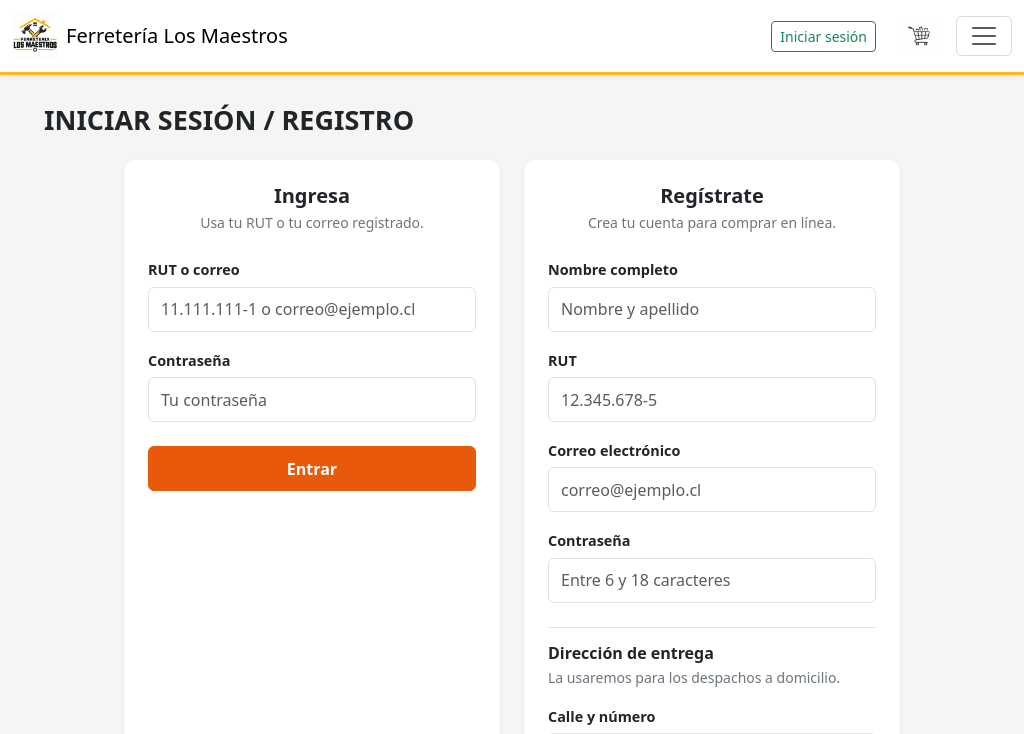
Test: login de administrador y rutas protegidas › rechaza una contraseña incorrecta
Type "admin@losmaestros.cl" into the field labelled "RUT o correo".
click(312, 309); type("admin@losmaestros.cl")  # box [148, 286, 476, 332]
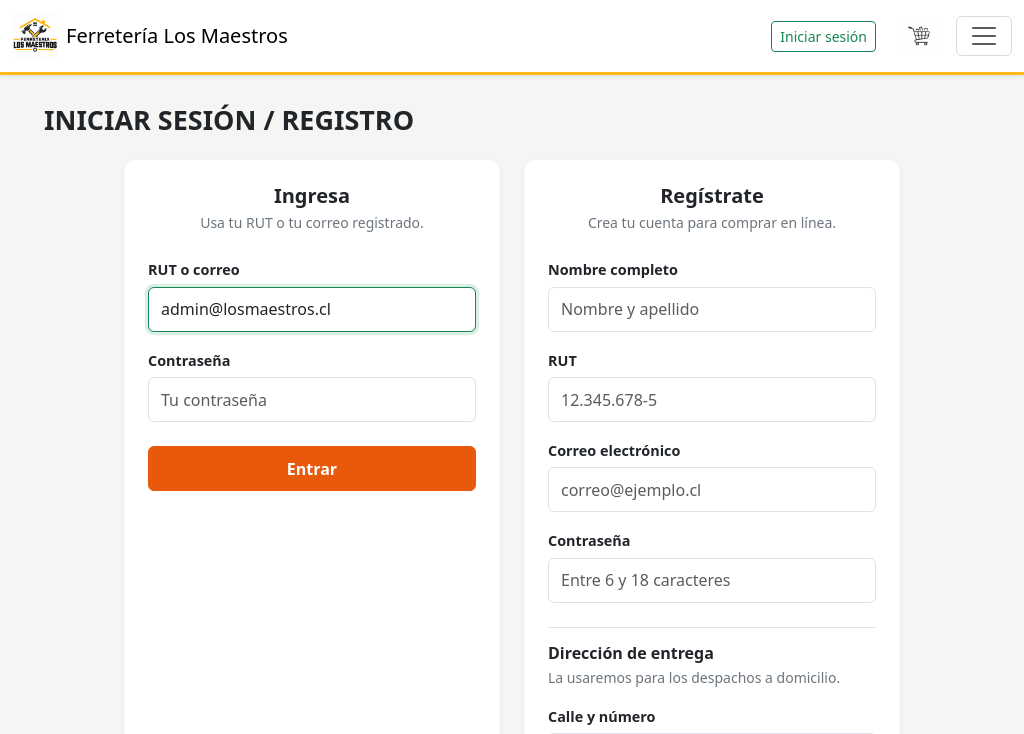
Type "mala" into the password field labelled "Contraseña" below "RUT o correo".
click(312, 400); type("mala")  # box [148, 377, 476, 422]
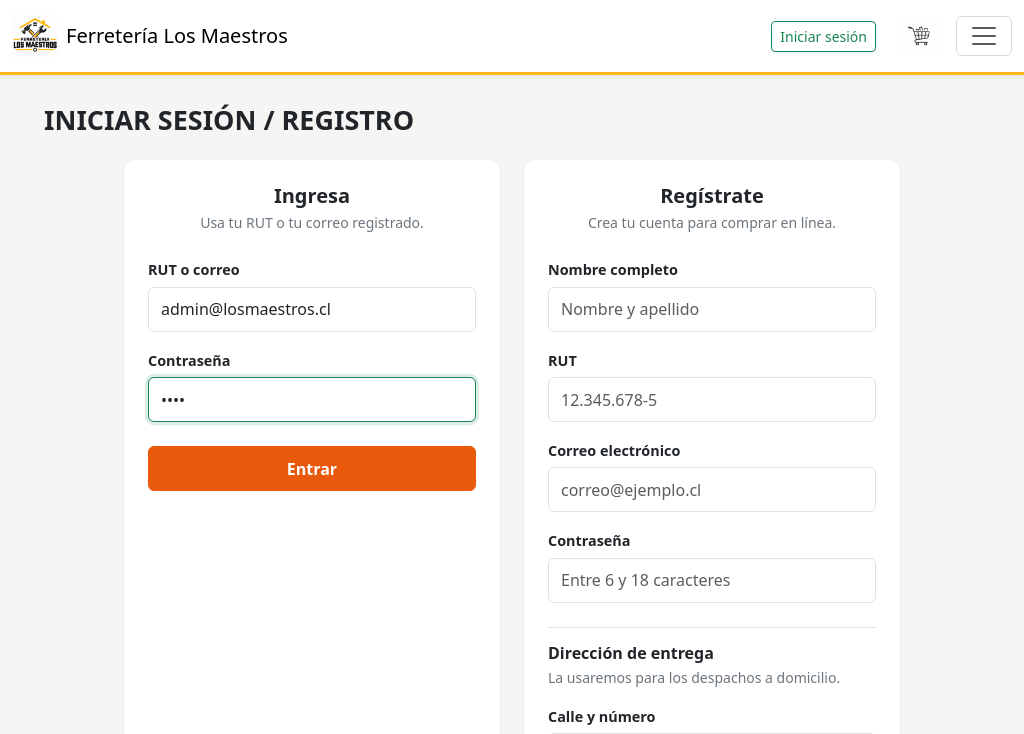
Click the button "Entrar".
click(312, 469)  # box [148, 446, 476, 491]
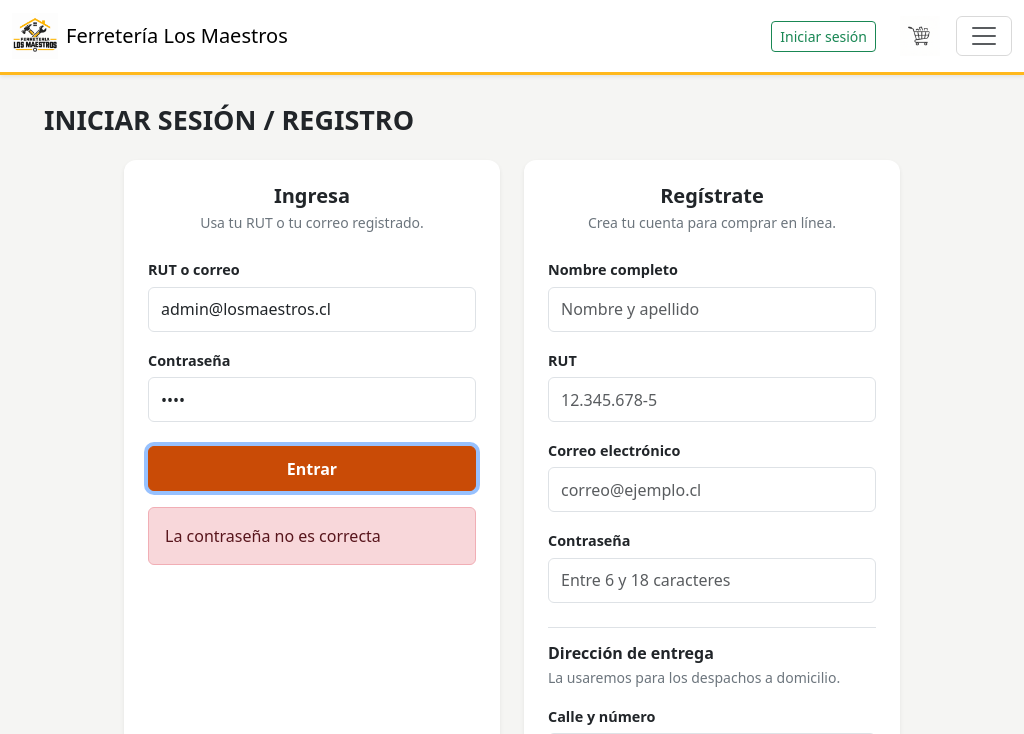
Check: the message reads "La contraseña no es correcta", box [165, 525, 381, 547]
